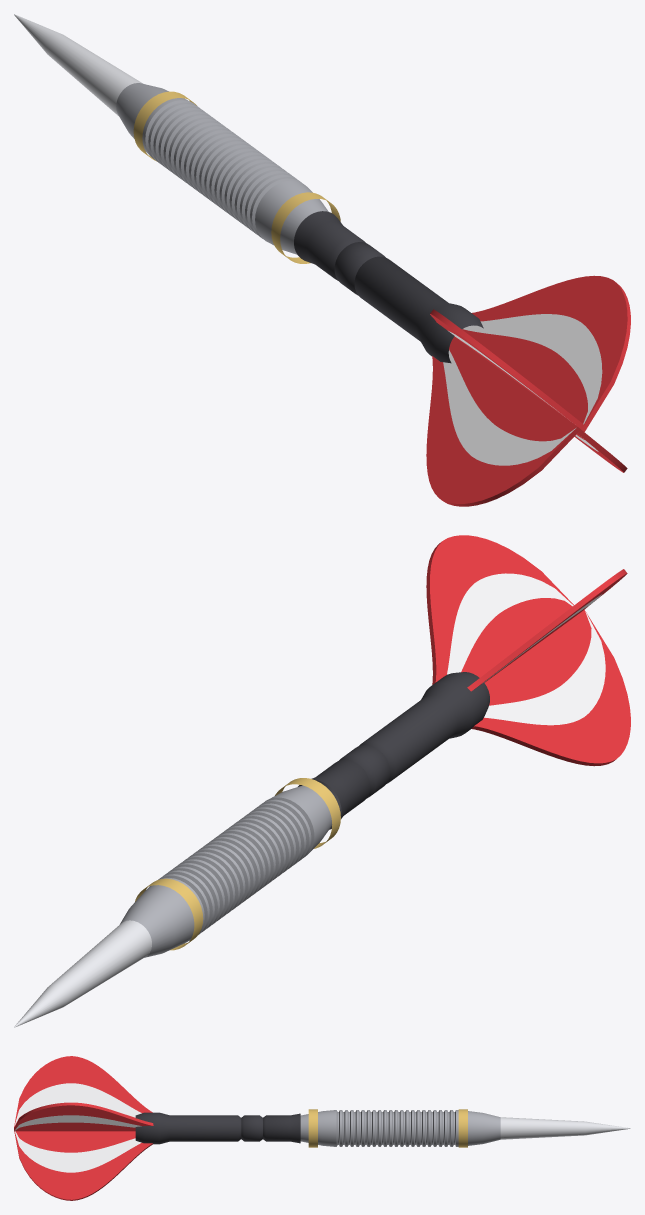
Rendered from Dart.fbx.
The picture shows the model from 3 angles, top to bottom: view 1: azimuth 30°, elevation 25°; view 2: azimuth 150°, elevation 25°; view 3: azimuth 270°, elevation 25°; orthographic projection. The views are drawn at different scales.
Visible parts, largest first — view 1: Dart; view 2: Dart; view 3: Dart.
Boxes of the visible parts, x1,y1,x2,y2 form: Dart: [14, 14, 630, 506]; Dart: [14, 535, 630, 1027]; Dart: [14, 1056, 630, 1200].
Bounding box in the file's own units: 0.0412 × 0.0412 × 0.2272.
